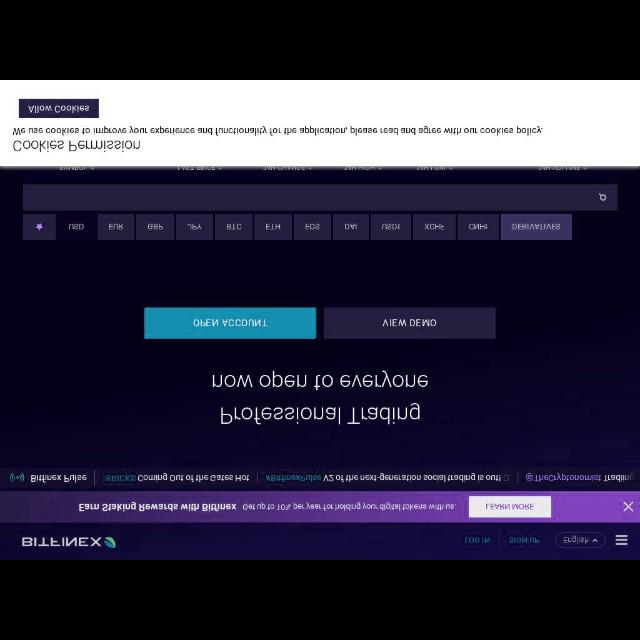button: (22, 213, 56, 240)
icon: (621, 498, 637, 514), (614, 530, 628, 546), (12, 472, 24, 482), (598, 192, 606, 202), (591, 536, 599, 544), (502, 476, 510, 480)
image: (20, 531, 119, 553)
input: (23, 183, 617, 210)
link: (526, 472, 600, 483)
multitab: (3, 469, 639, 489)
panel: (1, 82, 639, 168)
spinner: (553, 530, 607, 548)
text: (14, 124, 546, 136), (219, 401, 421, 427), (213, 371, 429, 389), (242, 502, 456, 512), (12, 137, 142, 153), (76, 502, 236, 514), (324, 472, 501, 482), (138, 472, 250, 483), (31, 472, 88, 484), (264, 472, 322, 483), (461, 533, 494, 547), (100, 473, 138, 485), (508, 534, 540, 546), (604, 471, 634, 483), (560, 534, 588, 544)
textbutton: (323, 307, 495, 338), (144, 308, 318, 338), (500, 214, 572, 240), (469, 496, 551, 518), (18, 99, 100, 118), (215, 212, 253, 242), (413, 213, 455, 240), (371, 213, 411, 241), (58, 213, 96, 241), (294, 213, 332, 241), (458, 213, 498, 239), (137, 213, 175, 240), (254, 213, 292, 240), (98, 213, 134, 241), (177, 212, 213, 240), (333, 213, 369, 241)
toolbar: (0, 523, 638, 559)
